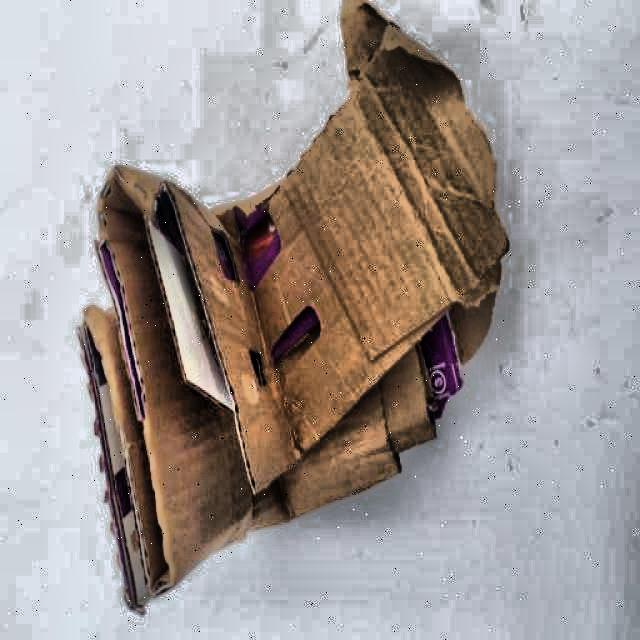cardboard: (79, 0, 510, 613)
